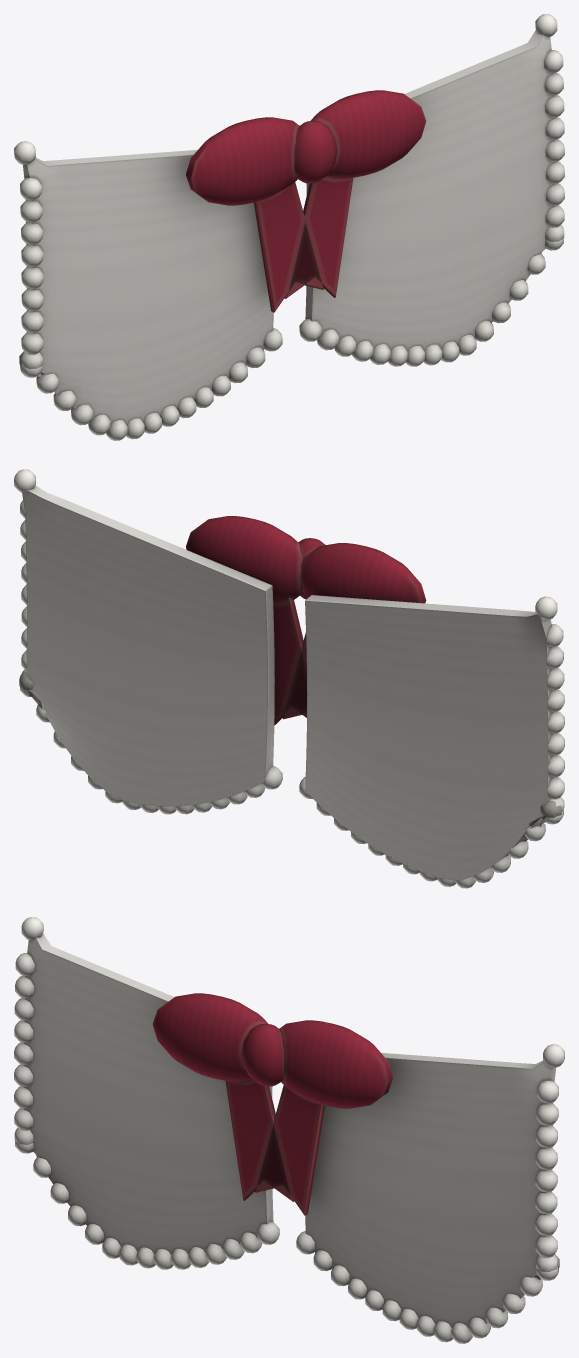
File: NHAcc_ChoirCollar.fbx
The picture shows the model from 3 angles, top to bottom: view 1: azimuth 30°, elevation 25°; view 2: azimuth 150°, elevation 25°; view 3: azimuth 330°, elevation 25°; orthographic projection.
Parts seen in each view (by area): view 1: ChoirCollar; view 2: ChoirCollar; view 3: ChoirCollar.
Boxes of the visible parts, bbox=[...] form: ChoirCollar: bbox=[14, 14, 564, 440]; ChoirCollar: bbox=[14, 469, 564, 888]; ChoirCollar: bbox=[14, 917, 564, 1343].
Bounding box in the file's own units: 0.8304 × 0.4658 × 0.1122.
